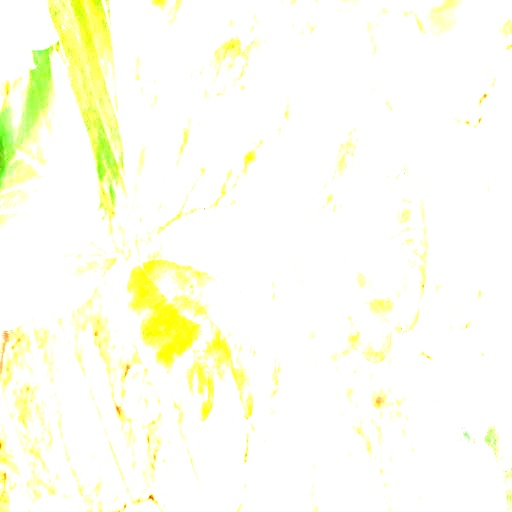Leaf Spot: (124, 27, 430, 421), (43, 0, 224, 248)
